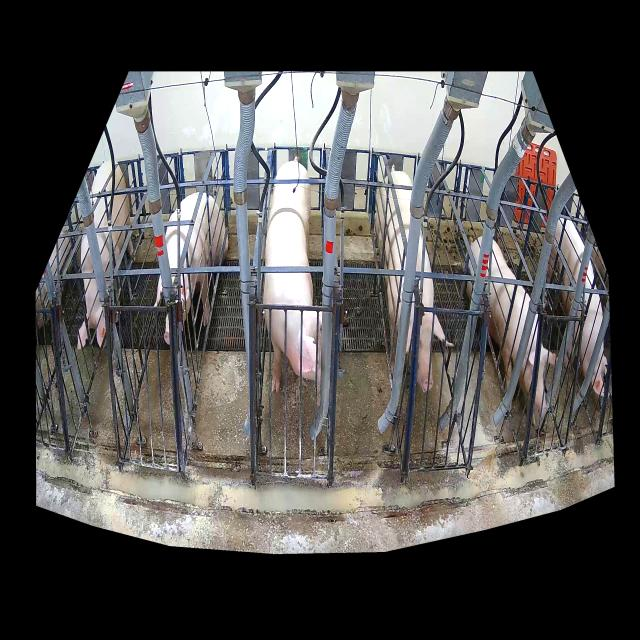pig: (466, 237, 556, 426), (376, 171, 445, 392), (264, 161, 322, 393), (154, 193, 228, 345), (546, 217, 608, 395), (77, 161, 134, 350)
